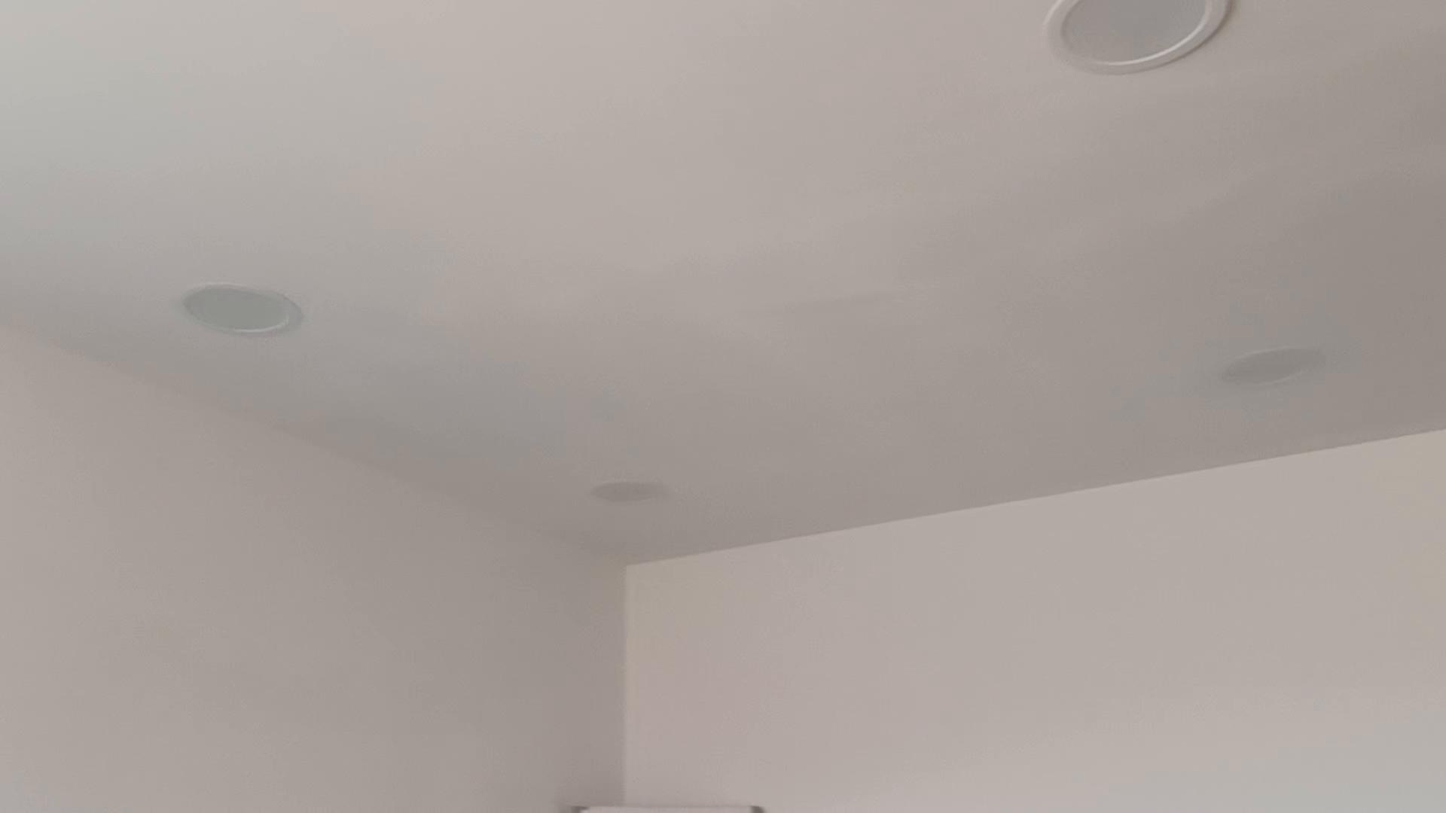ceiling: (0, 0, 1445, 561)
wall: (625, 432, 1445, 811), (5, 332, 625, 812)
